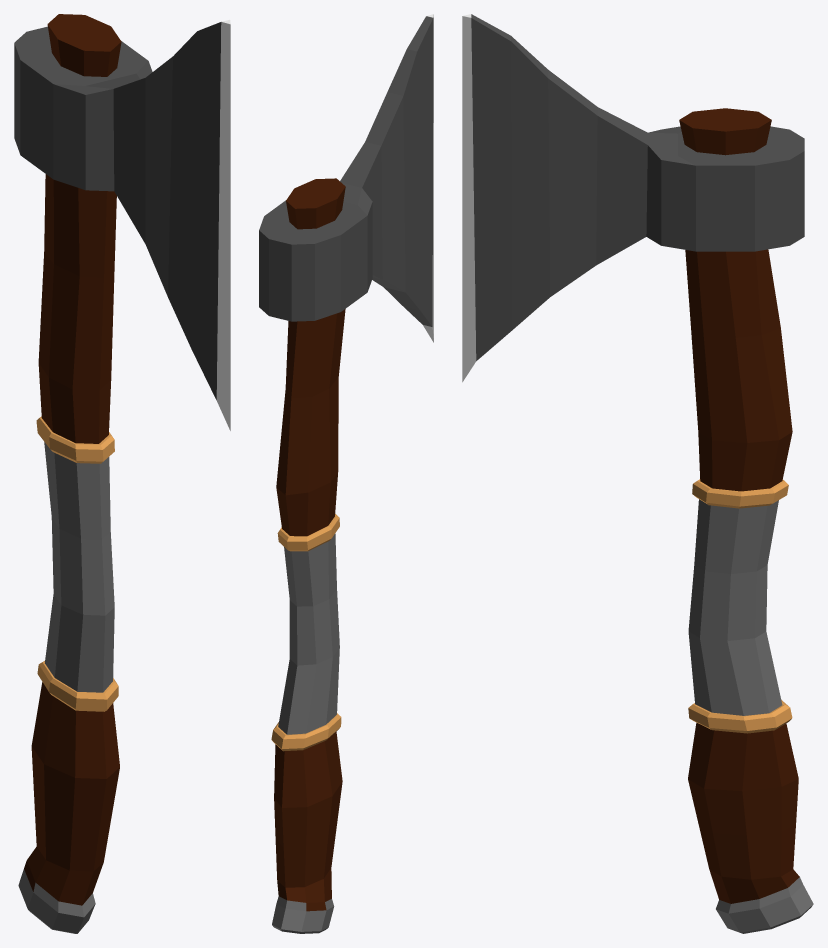
The model's file is StoneAxe.fbx.
3 renders of one model, left to right at view 1: azimuth 30°, elevation 25°; view 2: azimuth 150°, elevation 25°; view 3: azimuth 270°, elevation 25°, orthographic. The views are drawn at different scales.
Visible parts, largest first — view 1: axe; view 2: axe; view 3: axe.
Part boxes in pixels (box(x1,y1,x2,y2)): axe: box(14, 14, 230, 933); axe: box(259, 14, 433, 933); axe: box(462, 14, 813, 933).
Bounding box in the file's own units: 276 × 2815 × 978.
